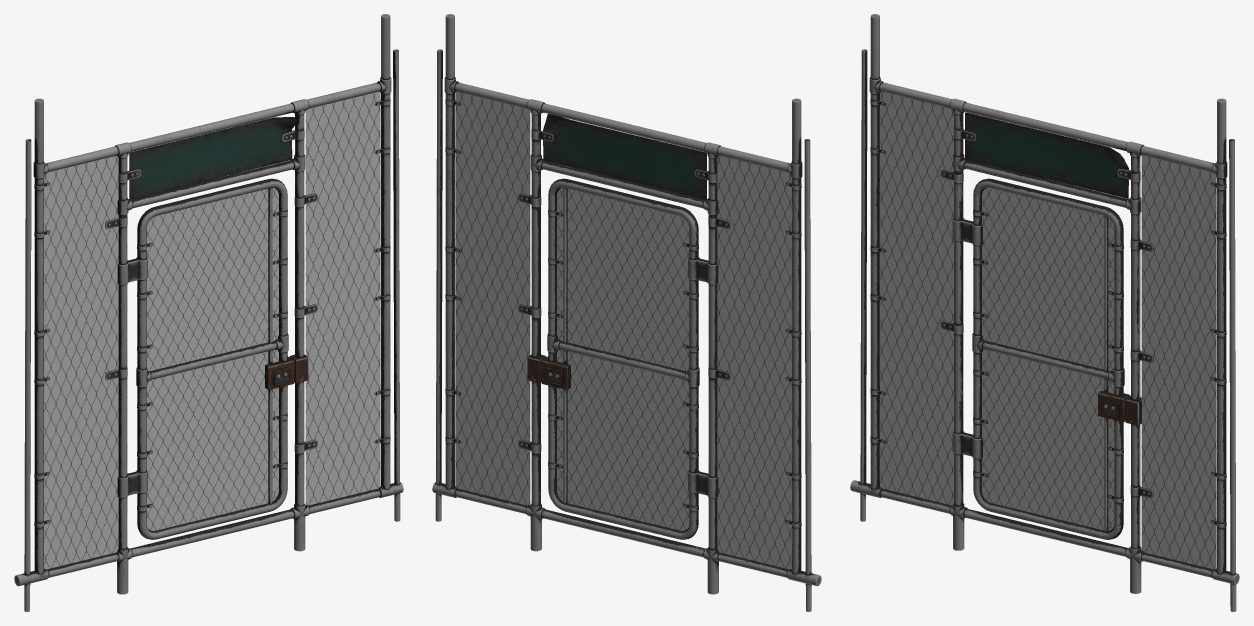
Rendered from door_protection_fence_11mb.glb.
The picture shows the model from 3 angles, left to right: view 1: azimuth 30°, elevation 25°; view 2: azimuth 150°, elevation 25°; view 3: azimuth 330°, elevation 25°; orthographic projection.
Parts seen in each view (by area): view 1: tori, lol, pich; view 2: tori, lol, pich; view 3: tori, lol, pich.
Part boxes in pixels (<box>): tori: <box>44,91,380,569</box>; lol: <box>14,14,403,611</box>; pich: <box>34,100,390,527</box>; tori: <box>455,91,791,569</box>; lol: <box>432,14,821,611</box>; pich: <box>445,100,801,527</box>; tori: <box>880,91,1216,569</box>; lol: <box>850,14,1239,611</box>; pich: <box>870,100,1226,527</box>.
Bounding box in the file's own units: 7.7 × 9.81 × 0.3699.
Materials: 3 (3 with a texture image).
